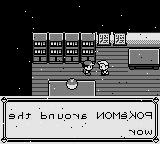leer: (98, 32, 127, 47)
main: (82, 61, 95, 75)
no-caminable: (1, 0, 159, 95), (34, 34, 94, 64), (49, 80, 95, 96), (129, 49, 159, 70), (128, 34, 160, 47)
npc: (98, 61, 110, 75)
poke-ball: (66, 79, 78, 89)
texto: (2, 97, 160, 143)
